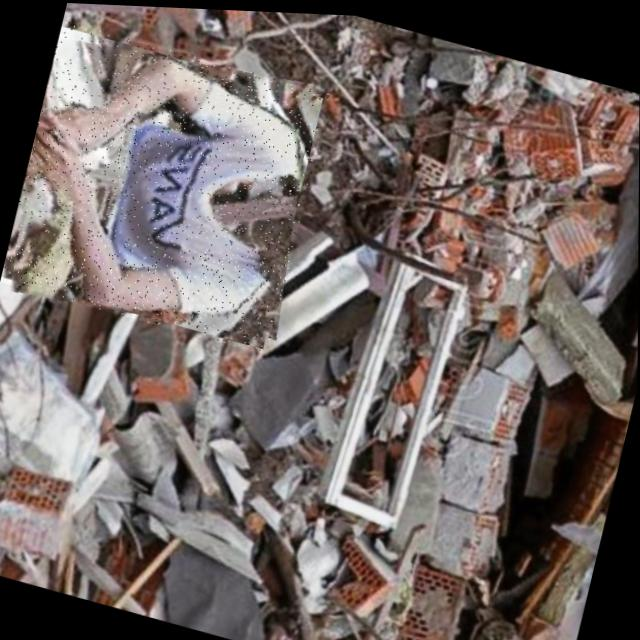Person in Rubble: (0, 17, 329, 355)
